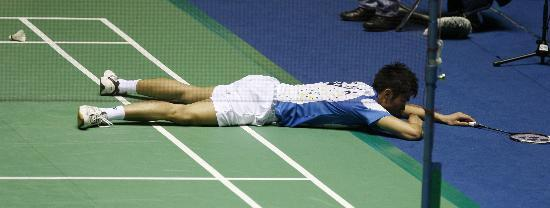fall: (64, 50, 476, 140)
